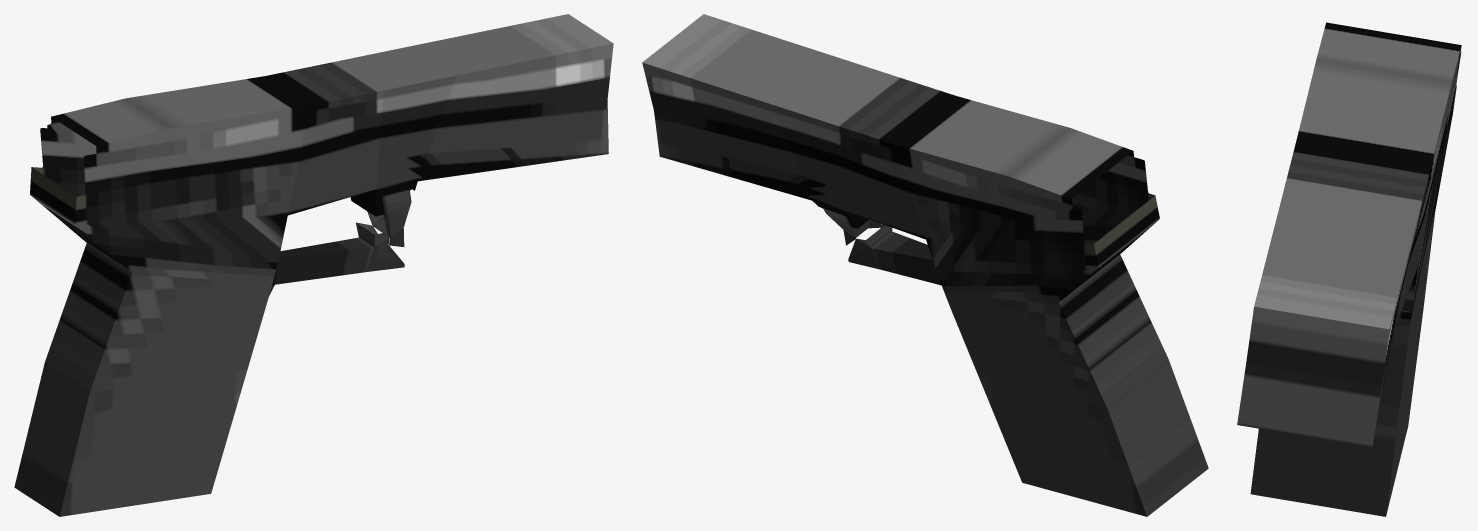
The model's file is Pistol.fbx.
3 renders of one model, left to right at view 1: azimuth 30°, elevation 25°; view 2: azimuth 150°, elevation 25°; view 3: azimuth 270°, elevation 25°, orthographic. The views are drawn at different scales.
Parts seen in each view (by area): view 1: Cube; view 2: Cube; view 3: Cube.
Boxes of the visible parts, x1,y1,x2,y2 form: Cube: (14, 14, 613, 516); Cube: (642, 14, 1208, 516); Cube: (1237, 22, 1461, 516).
Bounding box in the file's own units: 97.11 × 60.75 × 28.07.
1 material, 1 textured.
